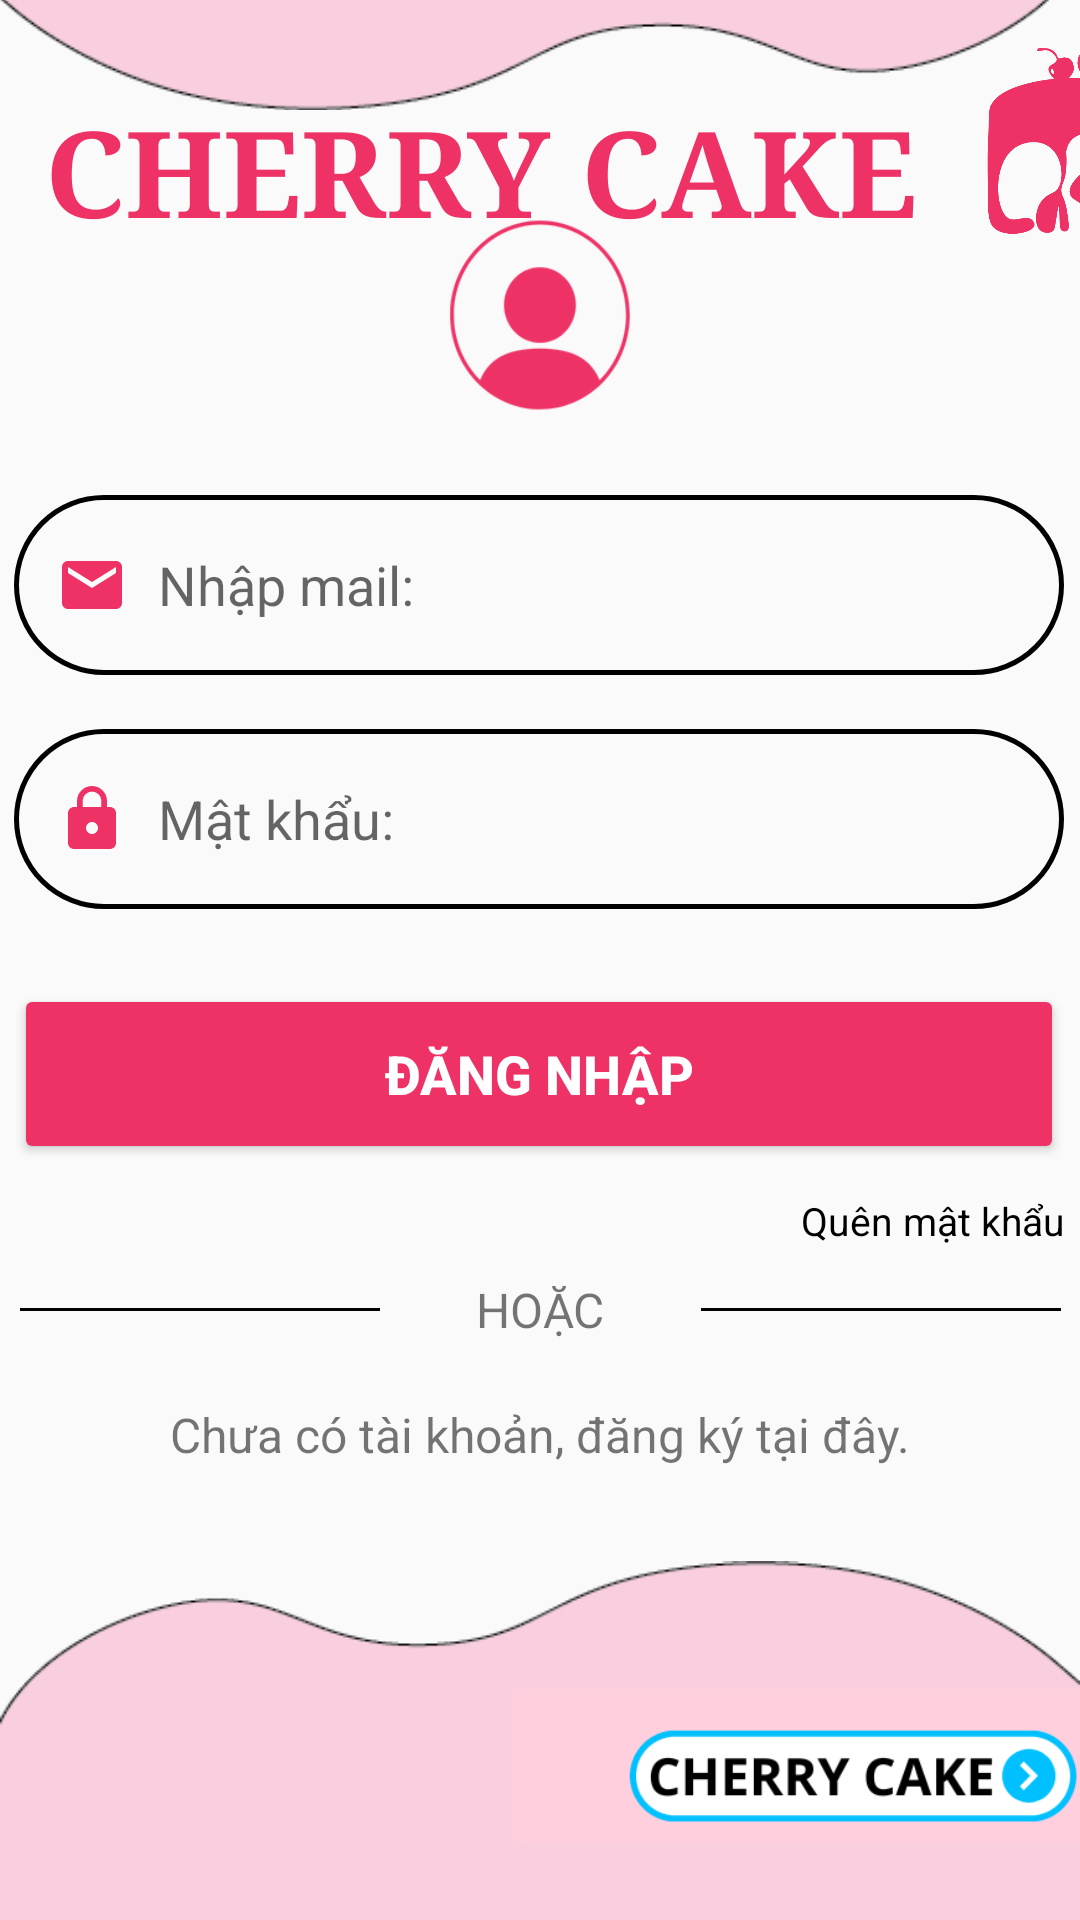

Named icons in this screenshot (1080 × 1920) and their centers, [x,y]:
avatahong: [540,315]
